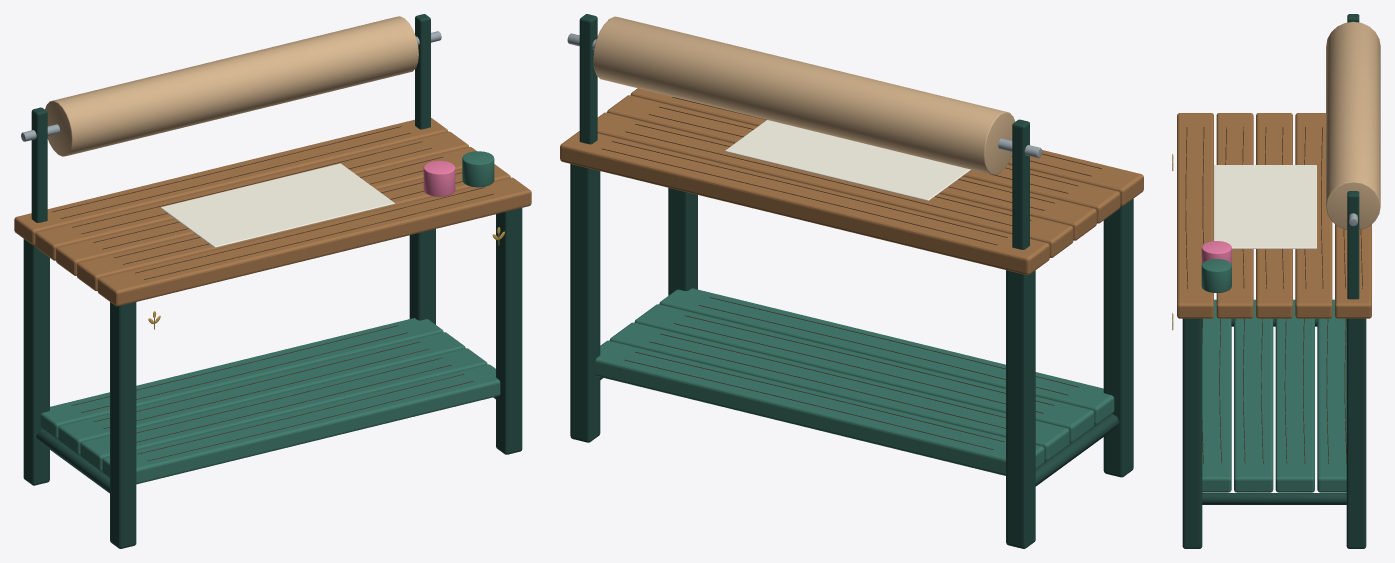
Rendered from wrapping_station.glb.
3 renders of one model, left to right at view 1: azimuth 30°, elevation 25°; view 2: azimuth 150°, elevation 25°; view 3: azimuth 270°, elevation 25°, orthographic. The views are drawn at different scales.
Visible parts, largest first — view 1: Kraft_roll, Bevelled_timber.004, Bevelled_timber.008, Loose_paper, Bevelled_timber, Bevelled_timber.006, Bevelled_timber.007, Bevelled_timber.005, Leg.001, Leg.003, Bevelled_timber.001, Leg (+8 smaller); view 2: Kraft_roll, Bevelled_timber, Bevelled_timber.005, Bevelled_timber.006, Bevelled_timber.007, Bevelled_timber.008, Bevelled_timber.001, Loose_paper, Leg.002, Leg, Leg.001, Bevelled_timber.002 (+6 smaller); view 3: Kraft_roll, Loose_paper, Bevelled_timber.006, Bevelled_timber.007, Bevelled_timber.004, Bevelled_timber.005, Bevelled_timber.008, Bevelled_timber.001, Leg.002, Leg.003, Bevelled_timber.002, Bevelled_timber.003 (+5 smaller).
Part boxes in pixels (<box>): Kraft_roll: <box>45,16,418,156</box>; Bevelled_timber.004: <box>97,177,531,306</box>; Bevelled_timber.008: <box>102,364,500,484</box>; Loose_paper: <box>160,163,394,247</box>; Bevelled_timber: <box>14,118,448,245</box>; Bevelled_timber.006: <box>58,332,465,455</box>; Bevelled_timber.007: <box>80,348,487,471</box>; Bevelled_timber.005: <box>40,318,443,438</box>; Leg.001: <box>110,302,136,548</box>; Leg.003: <box>496,208,522,454</box>; Bevelled_timber.001: <box>35,131,468,260</box>; Leg: <box>23,239,49,485</box>; Kraft_roll: <box>593,16,1015,174</box>; Bevelled_timber: <box>560,131,1049,275</box>; Bevelled_timber.005: <box>595,340,1044,475</box>; Bevelled_timber.006: <box>609,322,1069,461</box>; Bevelled_timber.007: <box>634,304,1094,442</box>; Bevelled_timber.008: <box>659,288,1114,424</box>; Bevelled_timber.001: <box>597,112,1073,257</box>; Loose_paper: <box>725,120,970,201</box>; Leg.002: <box>570,164,600,442</box>; Leg: <box>1006,270,1035,548</box>; Leg.001: <box>1103,199,1133,477</box>; Bevelled_timber.002: <box>607,95,1096,240</box>; Kraft_roll: <box>1326,21,1380,229</box>; Loose_paper: <box>1213,165,1316,248</box>; Bevelled_timber.006: <box>1275,299,1314,492</box>; Bevelled_timber.007: <box>1234,299,1273,492</box>; Bevelled_timber.004: <box>1177,113,1213,318</box>; Bevelled_timber.005: <box>1317,299,1346,492</box>; Bevelled_timber.008: <box>1202,299,1231,492</box>; Bevelled_timber.001: <box>1295,113,1332,318</box>; Leg.002: <box>1346,318,1366,548</box>; Leg.003: <box>1182,318,1202,548</box>; Bevelled_timber.002: <box>1256,113,1292,318</box>; Bevelled_timber.003: <box>1216,113,1253,318</box>.
Size of the model in its own units: 1.5 by 1.29 by 0.6868.
